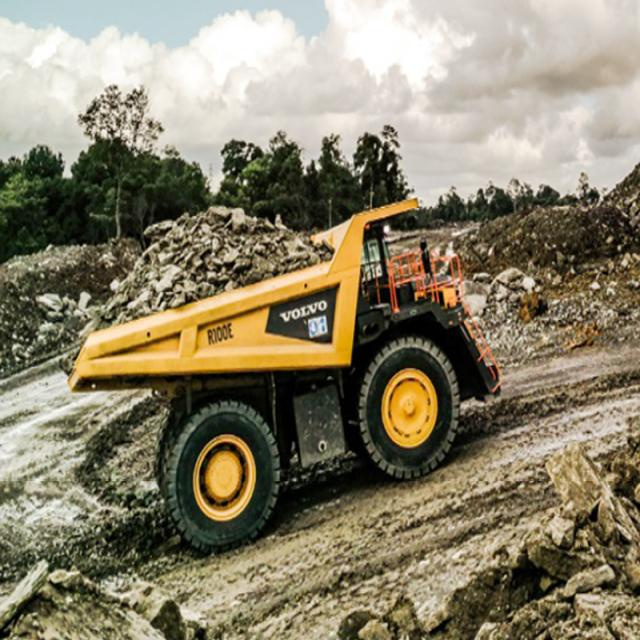dump_truck: (71, 189, 516, 551)
